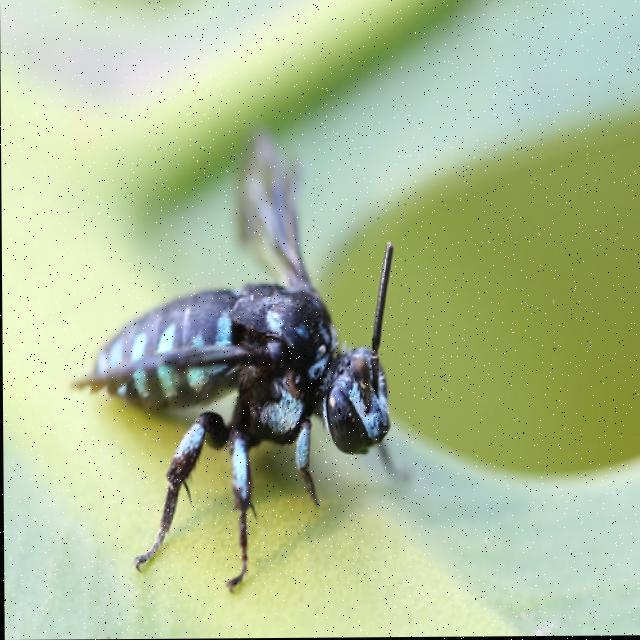Thyreus: (56, 130, 413, 602)
